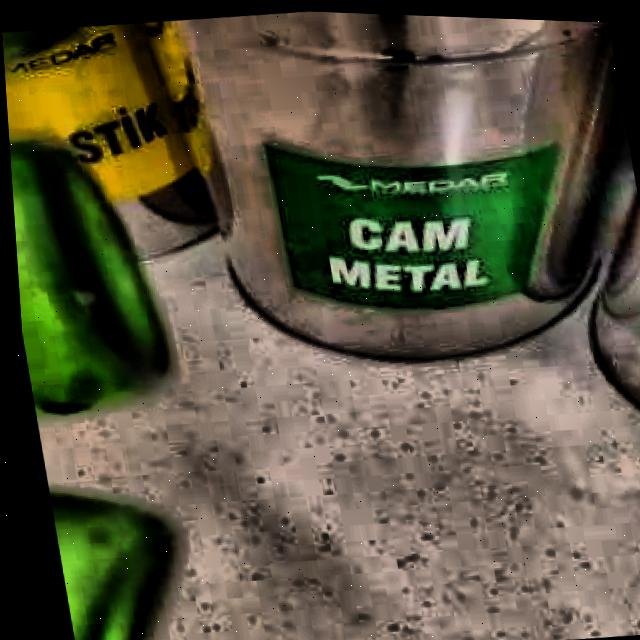glass: (7, 140, 163, 414)
